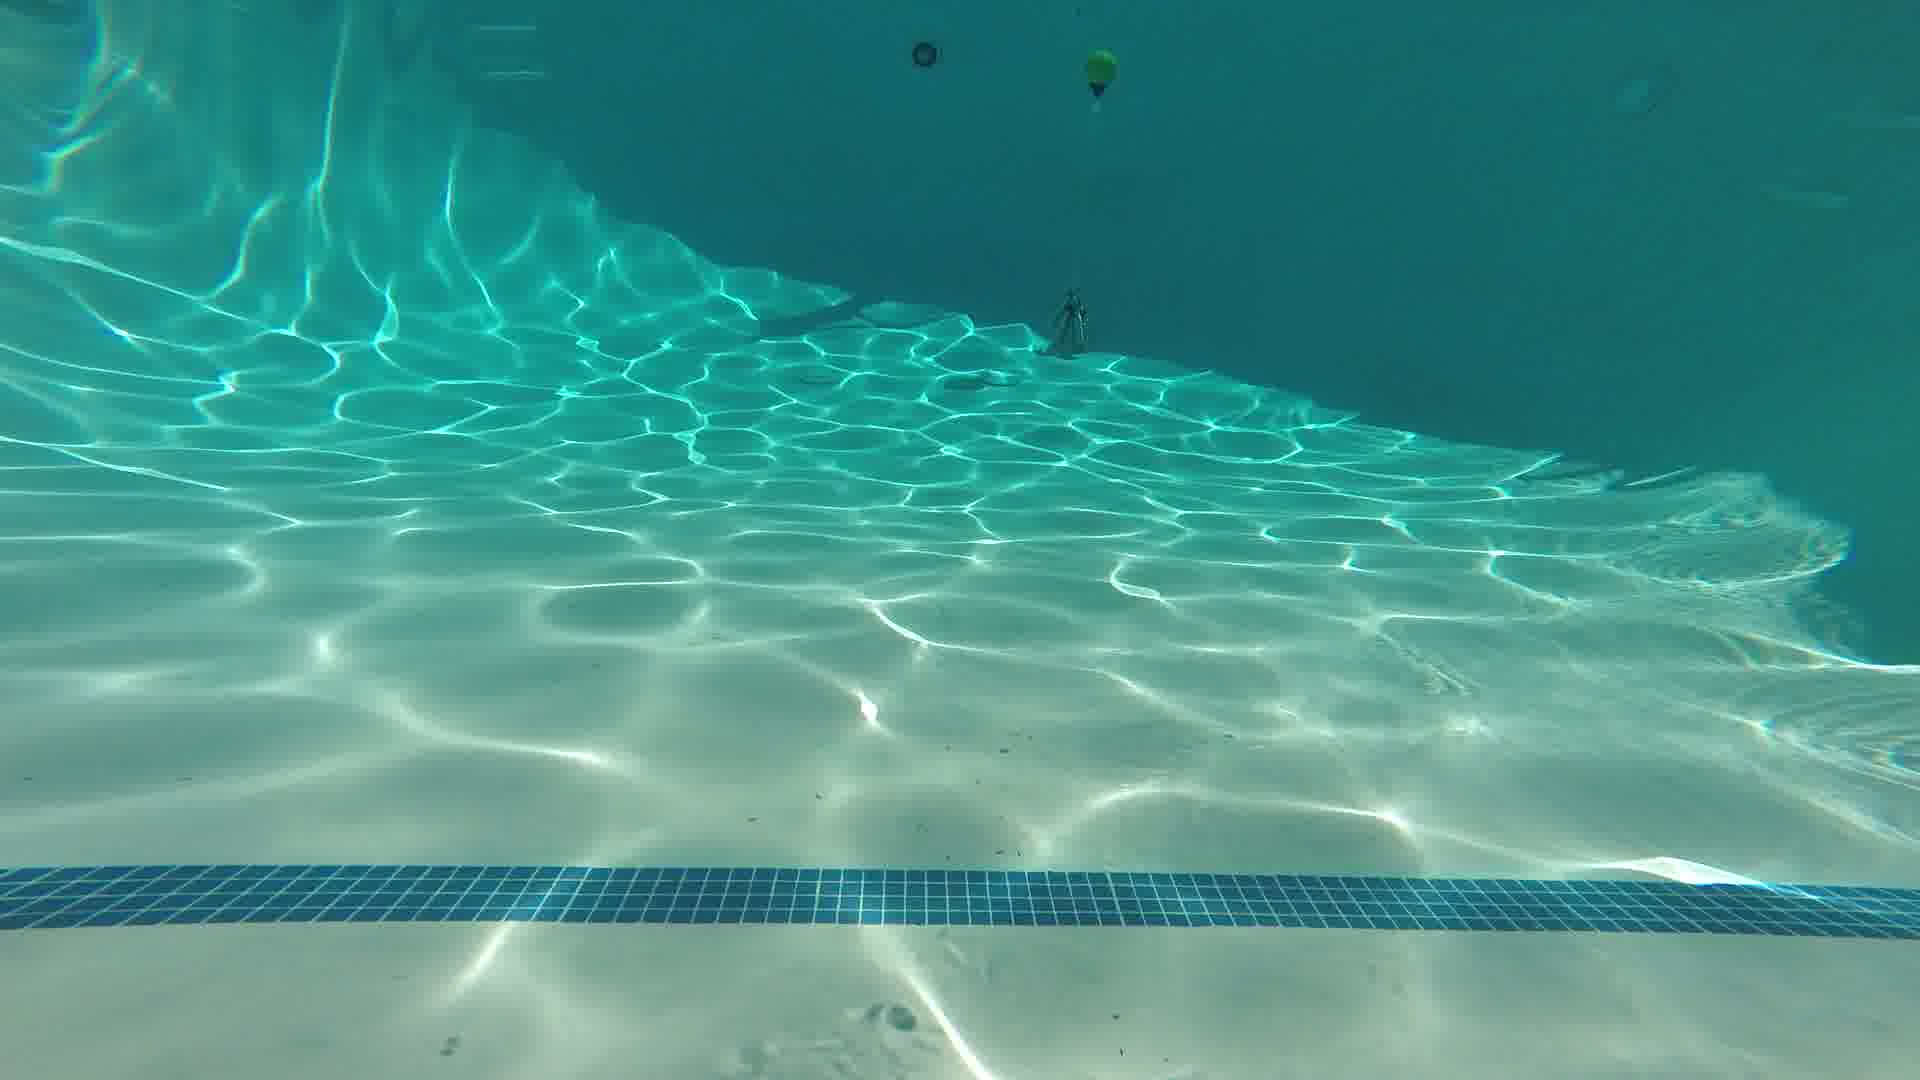yellow buoy: (1081, 47, 1118, 113)
